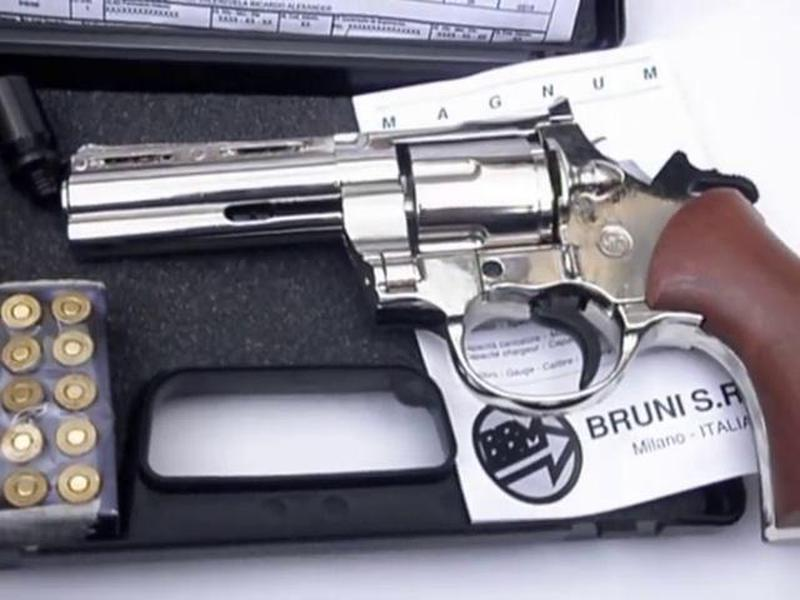Revolver: (42, 133, 782, 427)
